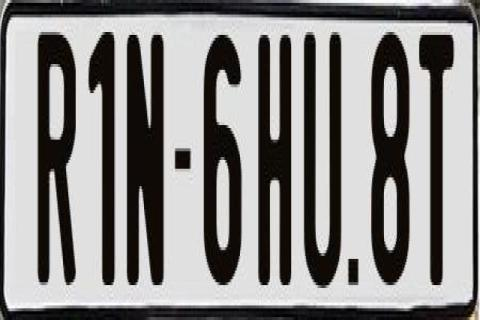0: (204, 35, 245, 285), (369, 26, 407, 294), (86, 24, 114, 288)
H: (258, 29, 292, 294)
N: (127, 26, 164, 288)
R: (35, 23, 76, 285)
T: (419, 32, 453, 300)
U: (304, 29, 344, 297)
